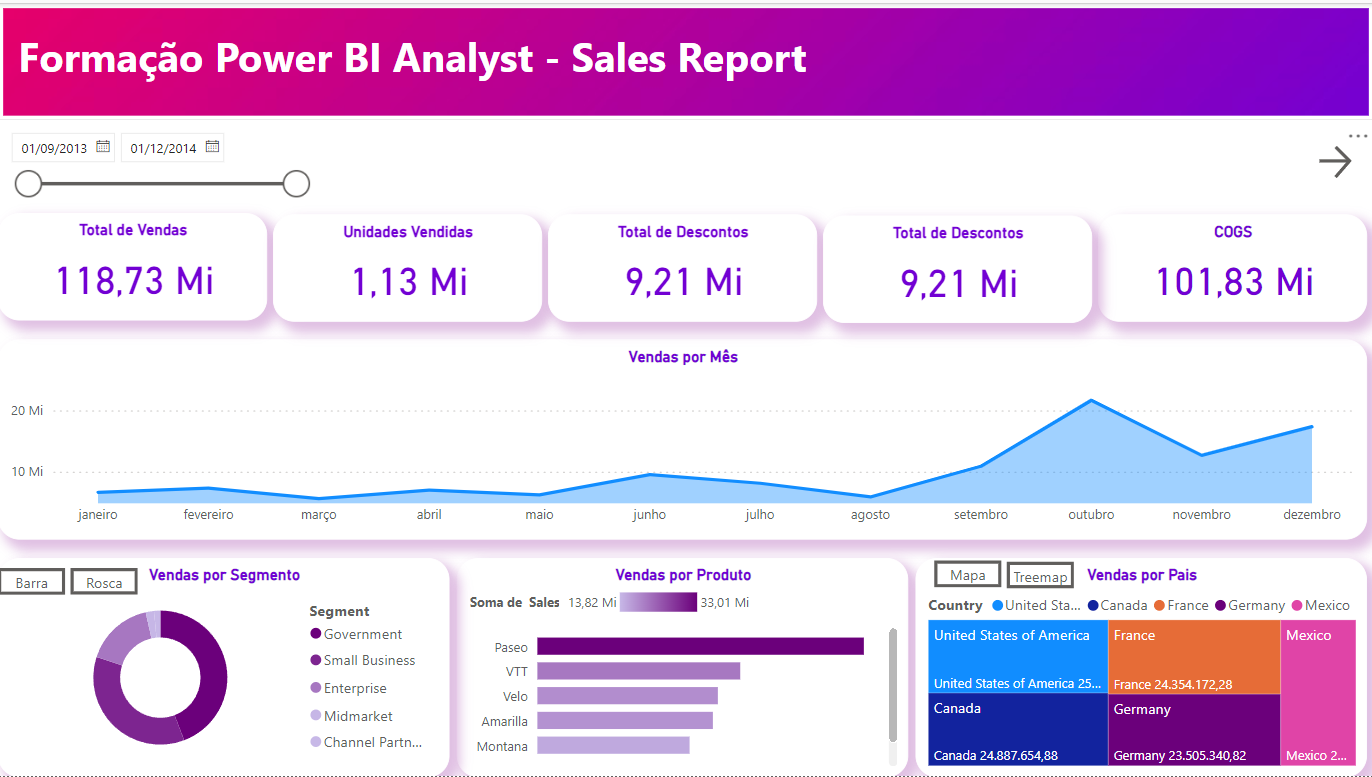

The page's visual inventory and layout, read from the dashboard file:
{"tool":"powerbi","page":{"name":"Página 1","canvas":[1280,720],"ordinal":0},"visuals":[{"type":"group","id":"g1","title":"Titulo PrincipaL","box":[0,0,1280.3,109.8],"z":0},{"type":"group","id":"g2","title":"Grupo 2","box":[0,0,1280.3,109.8],"z":0,"group":"g1"},{"type":"image","box":[0,0,1280.2,109.5],"z":0,"group":"g2"},{"type":"card","title":"COGS","fields":{"Values":["Sum(financials.COGS)"]},"box":[1023.6,196.6,250,100.2],"z":0,"group":"g3"},{"type":"treemap","title":"Vendas por Pais","fields":{"Group":["financials.Country"],"Values":["Sum(financials. Sales)"],"Details":["financials.Country"]},"box":[853.8,516.2,420,203.8],"z":0,"group":"g5"},{"type":"textbox","box":[13.7,19.3,1037.8,63.8],"z":1000,"group":"g2"},{"type":"card","title":"Total de Vendas","fields":{"Values":["Sum(financials. Sales)"]},"box":[0,195.2,250,100.2],"z":1000,"group":"g3"},{"type":"areaChart","title":"Vendas por Mês","fields":{"Y":["Sum(financials. Sales)"],"Category":["financials.Date.Variation.Hierarquia de datas.Mês"]},"box":[0,313.2,1273.4,186.6],"z":1000},{"type":"donutChart","title":"Vendas por Segmento","fields":{"Category":["financials.Segment"],"Y":["Sum(financials. Sales)"]},"box":[0,516.2,420,203.8],"z":1000,"group":"g4"},{"type":"card","title":"Unidades Vendidas","fields":{"Values":["Sum(financials.Units Sold)"]},"box":[255.8,196.6,250,100.2],"z":2000,"group":"g3"},{"type":"clusteredBarChart","title":"Vendas por Produto","fields":{"Y":["Sum(financials. Sales)"],"Category":["financials.Product"]},"box":[426.9,516.2,420,203.8],"z":2000},{"type":"actionButton","title":"Mapa","box":[870.8,518.9,62.5,25],"z":2000,"group":"g5"},{"type":"slicer","fields":{"Values":["financials.Date"]},"box":[0,110,298.8,73.8],"z":3000},{"type":"card","title":"Total de Descontos","fields":{"Values":["Sum(financials.Discounts)"]},"box":[511.7,196.6,250,100.2],"z":3000,"group":"g3"},{"type":"actionButton","title":"treemap","box":[938.8,519.3,62.7,24.7],"z":3000,"group":"g5"},{"type":"group","id":"g3","title":"Cards primários","box":[0,195.2,1273.6,102.9],"z":4000},{"type":"card","title":"Total de Descontos","fields":{"Values":["Sum(financials.Discounts)"]},"box":[767.6,197.9,250,100.2],"z":4000,"group":"g3"},{"type":"group","id":"g4","title":"Vendas por Segmento","box":[0,516.2,420,203.8],"z":5000},{"type":"group","id":"g5","title":"Vendas por Pais","box":[853.8,516.2,426.2,203.8],"z":6000},{"type":"actionButton","title":"Proxima pagina","box":[1223.8,127.5,50,40],"z":7000},{"type":"actionButton","title":"Barra","box":[0,525,62.5,25],"z":8000,"group":"g4"},{"type":"actionButton","title":"Rosca","box":[68,525.3,62.7,24.7],"z":9000,"group":"g4"}]}

Visuals, with their boxes in screenshot pixels (x1, y1, x2, y2), scaled from the page's 1280x720 canvas onto the 1372x777 screenshot:
"Titulo PrincipaL" group: bbox=(0, 0, 1371, 118)
"Grupo 2" group: bbox=(0, 0, 1371, 118)
image: bbox=(0, 0, 1371, 118)
"COGS" card: bbox=(1097, 212, 1365, 320)
"Vendas por Pais" treemap: bbox=(915, 557, 1365, 776)
textbox: bbox=(15, 21, 1127, 90)
"Total de Vendas" card: bbox=(0, 211, 268, 319)
"Vendas por Mês" areaChart: bbox=(0, 338, 1365, 539)
"Vendas por Segmento" donutChart: bbox=(0, 557, 450, 776)
"Unidades Vendidas" card: bbox=(274, 212, 542, 320)
"Vendas por Produto" clusteredBarChart: bbox=(458, 557, 908, 776)
"Mapa" actionButton: bbox=(933, 560, 1000, 587)
slicer - financials.Date: bbox=(0, 119, 320, 198)
"Total de Descontos" card: bbox=(548, 212, 816, 320)
"treemap" actionButton: bbox=(1006, 560, 1073, 587)
"Cards primários" group: bbox=(0, 211, 1365, 322)
"Total de Descontos" card: bbox=(823, 214, 1091, 322)
"Vendas por Segmento" group: bbox=(0, 557, 450, 776)
"Vendas por Pais" group: bbox=(915, 557, 1371, 776)
"Proxima pagina" actionButton: bbox=(1312, 138, 1365, 181)
"Barra" actionButton: bbox=(0, 567, 67, 594)
"Rosca" actionButton: bbox=(73, 567, 140, 594)
